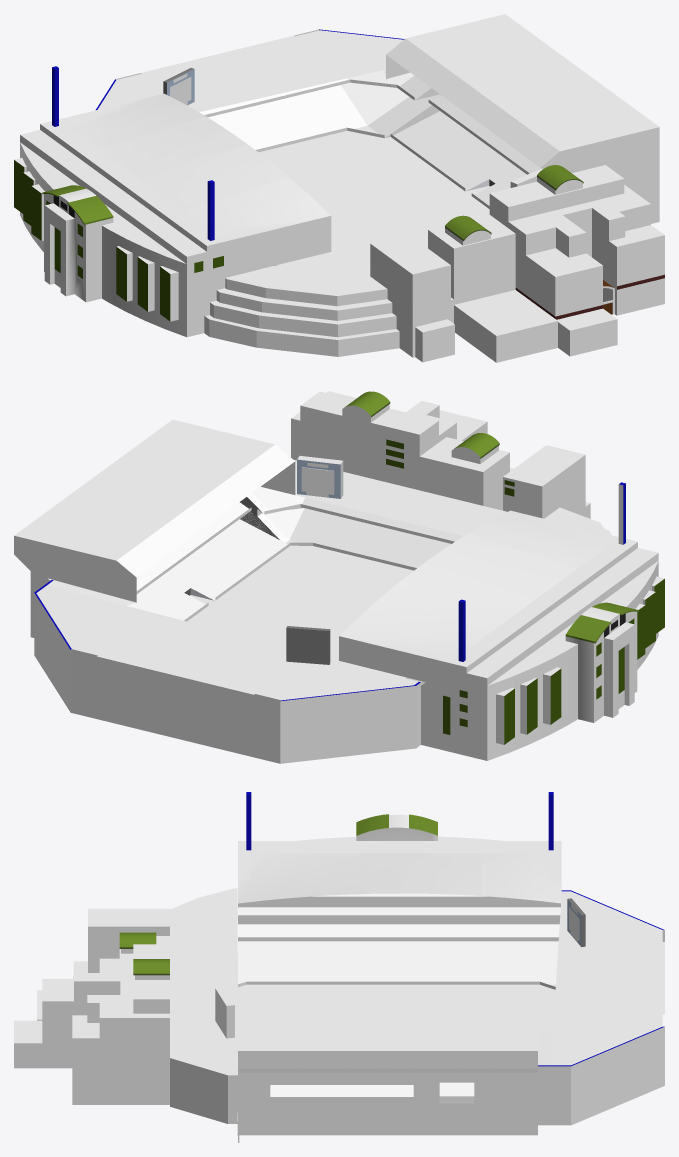
Rendered from estadioLevante.fbx.
The picture shows the model from 3 angles, top to bottom: view 1: azimuth 30°, elevation 25°; view 2: azimuth 150°, elevation 25°; view 3: azimuth 270°, elevation 25°; orthographic projection. The views are drawn at different scales.
Visible parts, largest first — view 1: Layer0_001; view 2: Layer0_001; view 3: Layer0_001.
Part boxes in pixels (x1,y1,x2,y2): Layer0_001: (14, 14, 664, 362); Layer0_001: (14, 391, 664, 763); Layer0_001: (14, 792, 664, 1142).
Size of the model in its own units: 219045 by 57925 by 243983.
